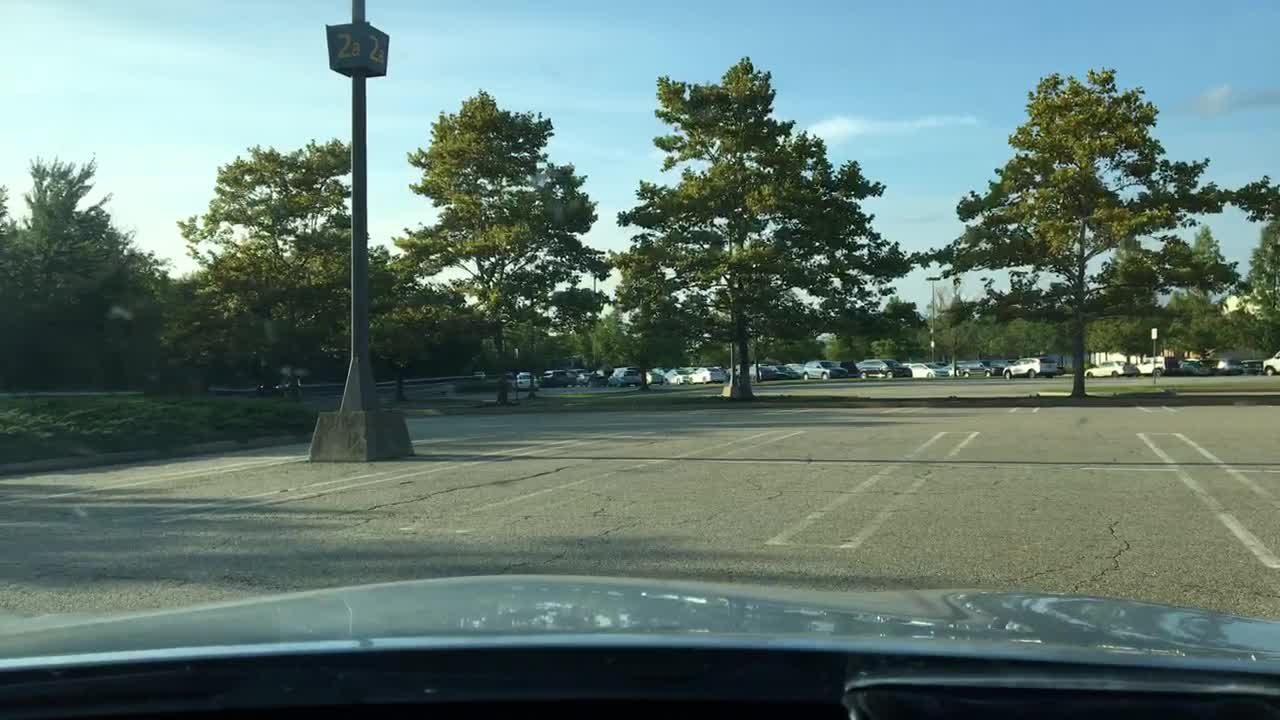car: (999, 353, 1061, 379), (854, 354, 913, 380), (251, 374, 303, 398), (1083, 358, 1137, 381), (798, 358, 852, 378), (950, 358, 1002, 378), (1132, 354, 1174, 378), (685, 361, 730, 383), (1171, 354, 1211, 378), (901, 361, 950, 378), (759, 358, 796, 380), (606, 366, 641, 386), (538, 368, 579, 385), (1259, 342, 1279, 374), (661, 368, 695, 386), (1215, 356, 1245, 374), (575, 371, 606, 388), (513, 369, 536, 388), (641, 369, 665, 385), (784, 359, 808, 374), (469, 368, 486, 380)
